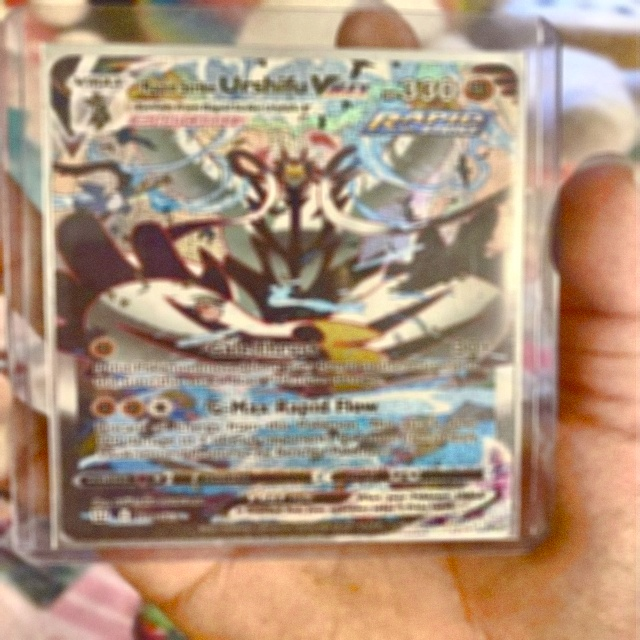card: (48, 55, 520, 543)
